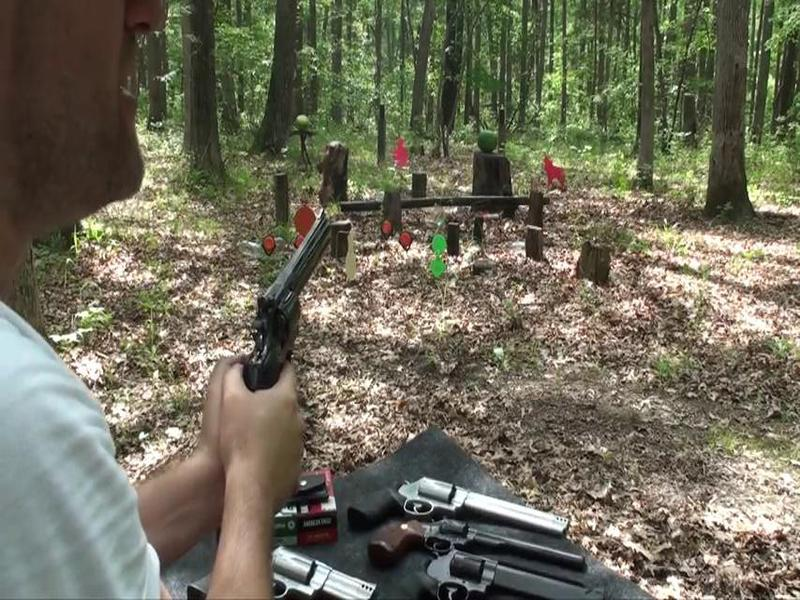Revolver: (222, 196, 346, 426)
